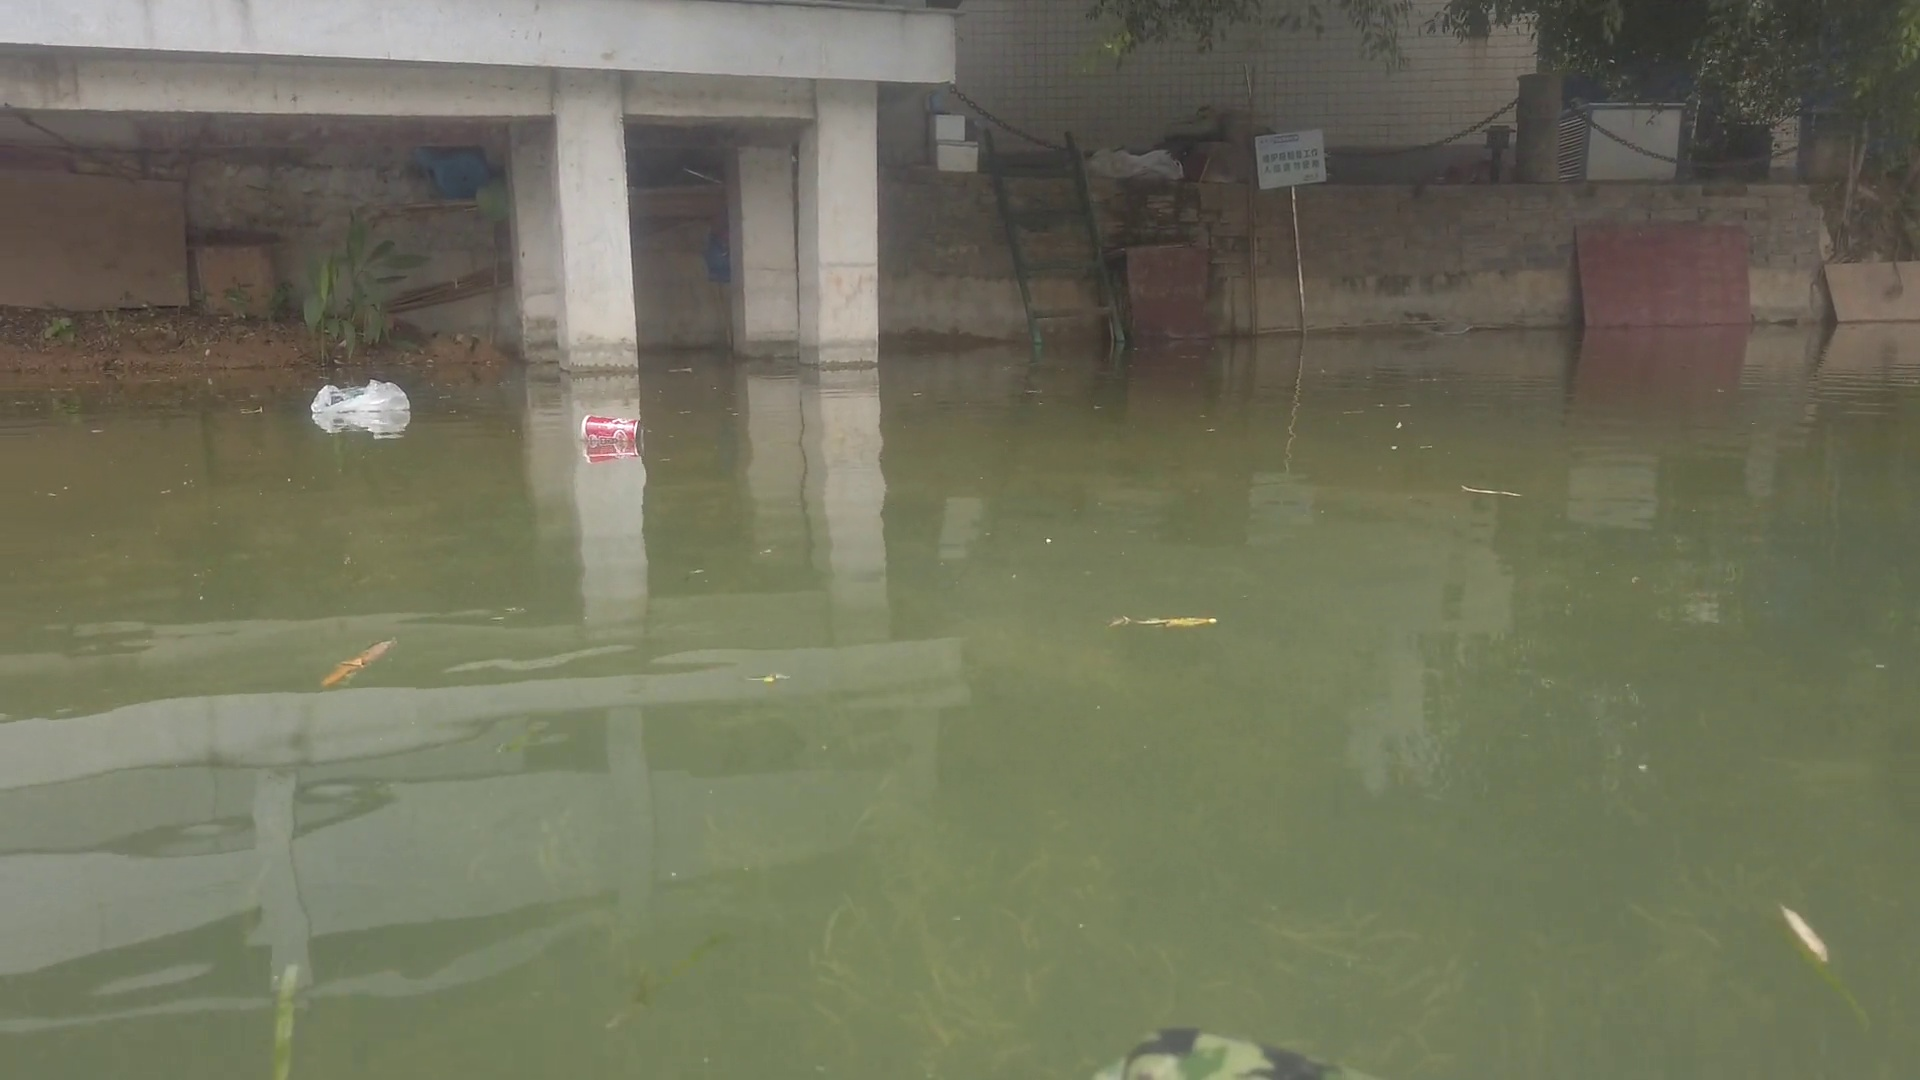bottle: (578, 407, 647, 444)
plastic: (306, 378, 414, 411)
